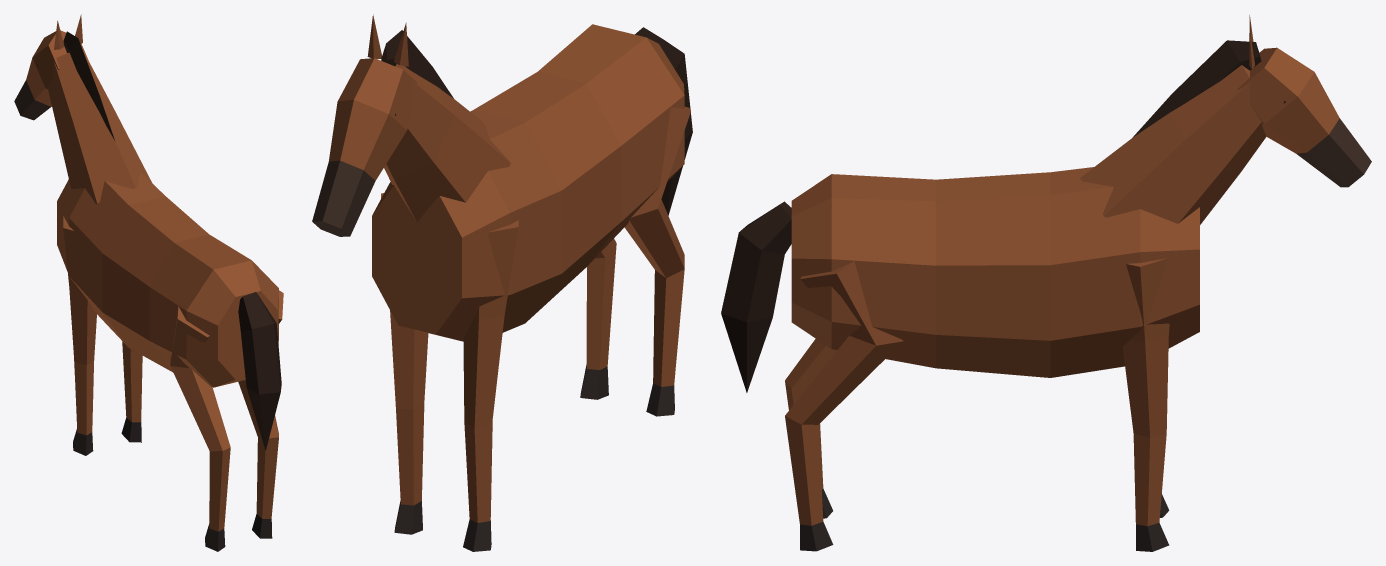
Rendered from horse.glb.
3 views of the same model, side by side, from view 1: azimuth 30°, elevation 25°; view 2: azimuth 150°, elevation 25°; view 3: azimuth 270°, elevation 25° (orthographic). The views are drawn at different scales.
Visible parts, largest first — view 1: Body, Neck, Leg_BL, Tail, Leg_FL, Leg_BR, Head, Leg_FR; view 2: Body, Neck, Head, Leg_FL, Leg_BL, Leg_FR, Leg_BR, Tail; view 3: Body, Neck, Leg_BR, Leg_FR, Head, Tail, Leg_BL.
Boxes of the visible parts, bbox=[...] form: Body: bbox=[57, 172, 278, 387]; Neck: bbox=[47, 31, 151, 204]; Leg_BL: bbox=[170, 306, 230, 551]; Tail: bbox=[238, 292, 281, 450]; Leg_FL: bbox=[63, 216, 96, 455]; Leg_BR: bbox=[238, 290, 283, 538]; Head: bbox=[14, 30, 88, 120]; Leg_FR: bbox=[121, 341, 142, 442]; Body: bbox=[372, 24, 684, 341]; Neck: bbox=[381, 30, 510, 221]; Head: bbox=[312, 58, 417, 236]; Leg_FL: bbox=[463, 220, 518, 551]; Leg_BL: bbox=[624, 107, 690, 416]; Leg_FR: bbox=[381, 193, 428, 534]; Leg_BR: bbox=[580, 239, 616, 399]; Tail: bbox=[635, 27, 692, 215]; Body: bbox=[791, 167, 1199, 377]; Neck: bbox=[1080, 40, 1266, 224]; Leg_BR: bbox=[785, 261, 903, 551]; Leg_FR: bbox=[1122, 258, 1169, 551]; Head: bbox=[1238, 47, 1371, 187]; Tail: bbox=[721, 201, 791, 392]; Leg_BL: bbox=[785, 339, 836, 518].
Size of the model in its own units: 0.5355 by 1.93 by 2.22.
